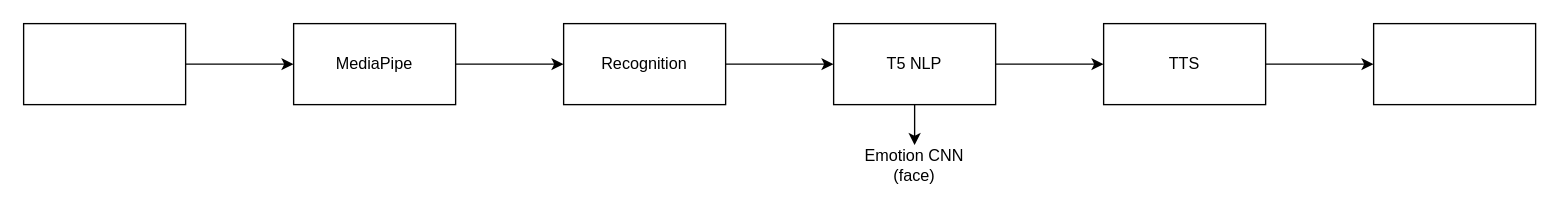
Some shapes in this 1559 by 209 pixel diagram are drawn without their labels. Here are the shapes that lost their labels. From the top down, the centre of each, then its label:
At [104,63]: "Webcam".
At [1454,63]: "Audio".
